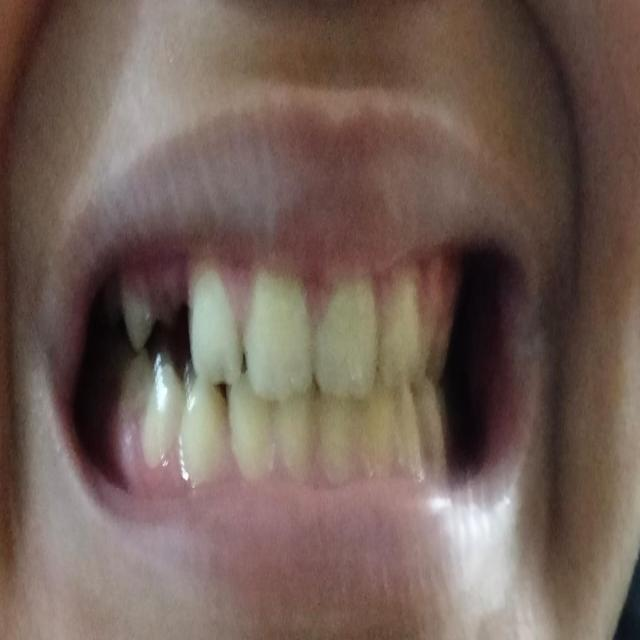tooth: (247, 265, 310, 404), (318, 286, 378, 397), (190, 284, 236, 380), (384, 283, 422, 388), (188, 387, 226, 481), (232, 393, 272, 479), (153, 368, 185, 456), (324, 406, 369, 467), (274, 406, 318, 466), (398, 402, 434, 474), (120, 284, 158, 351)
